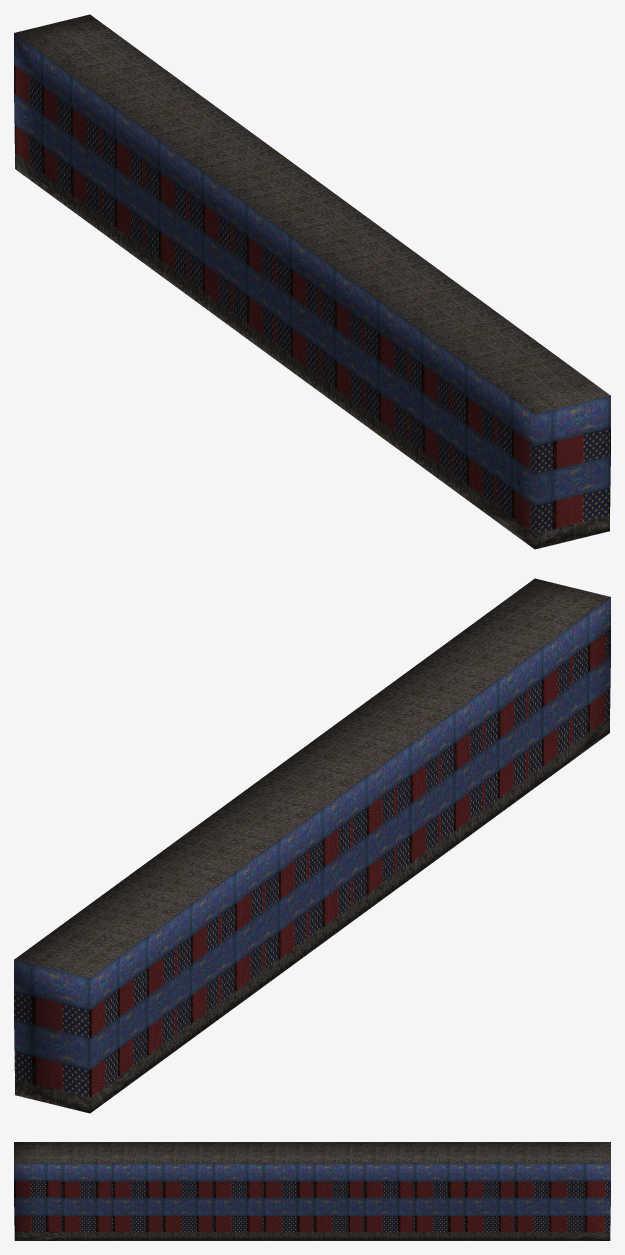
The model's file is RoomCorridor2.fbx.
The picture shows the model from 3 angles, top to bottom: view 1: azimuth 30°, elevation 25°; view 2: azimuth 150°, elevation 25°; view 3: azimuth 270°, elevation 25°; orthographic projection. The views are drawn at different scales.
Parts seen in each view (by area): view 1: RoomCorridorClean; view 2: RoomCorridorClean; view 3: RoomCorridorClean.
Part boxes in pixels (box(x1,y1,x2,y2)): RoomCorridorClean: box(14, 14, 610, 549); RoomCorridorClean: box(14, 578, 610, 1113); RoomCorridorClean: box(14, 1142, 610, 1240).
Size of the model in its own units: 1.78 by 3.04 by 21.16.
